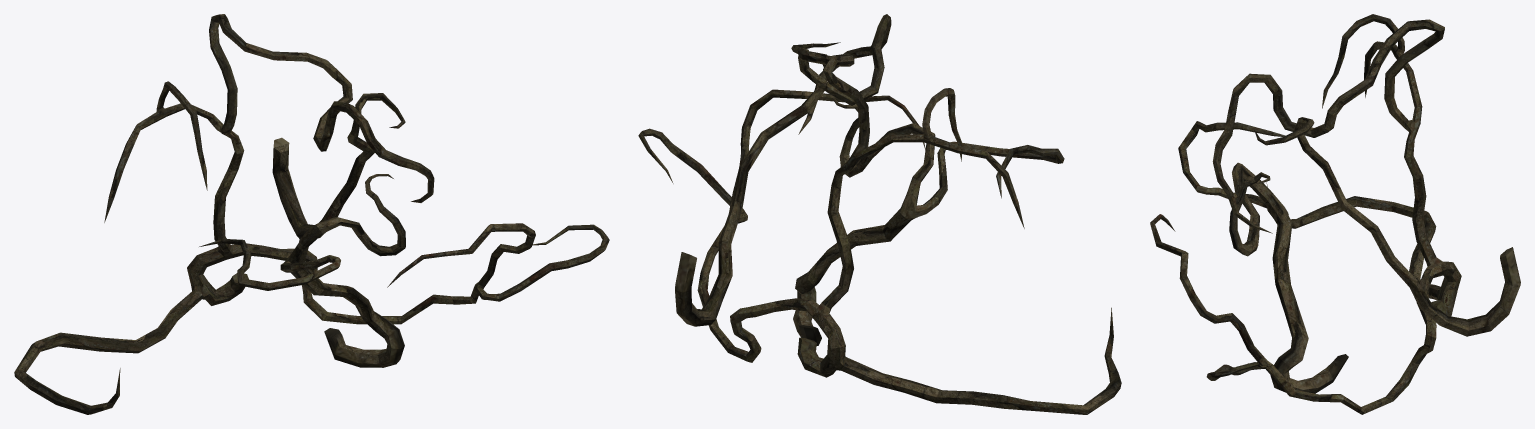
Rendered from Stage_6.fbx.
The picture shows the model from 3 angles, left to right: view 1: azimuth 30°, elevation 25°; view 2: azimuth 150°, elevation 25°; view 3: azimuth 270°, elevation 25°; orthographic projection. The views are drawn at different scales.
Parts seen in each view (by area): view 1: Stage6; view 2: Stage6; view 3: Stage6.
Boxes of the visible parts, x1=… form: Stage6: x1=14, y1=14, x2=609, y2=414; Stage6: x1=638, y1=14, x2=1121, y2=414; Stage6: x1=1150, y1=14, x2=1520, y2=414.
Size of the model in its own units: 818 by 505 by 511.
